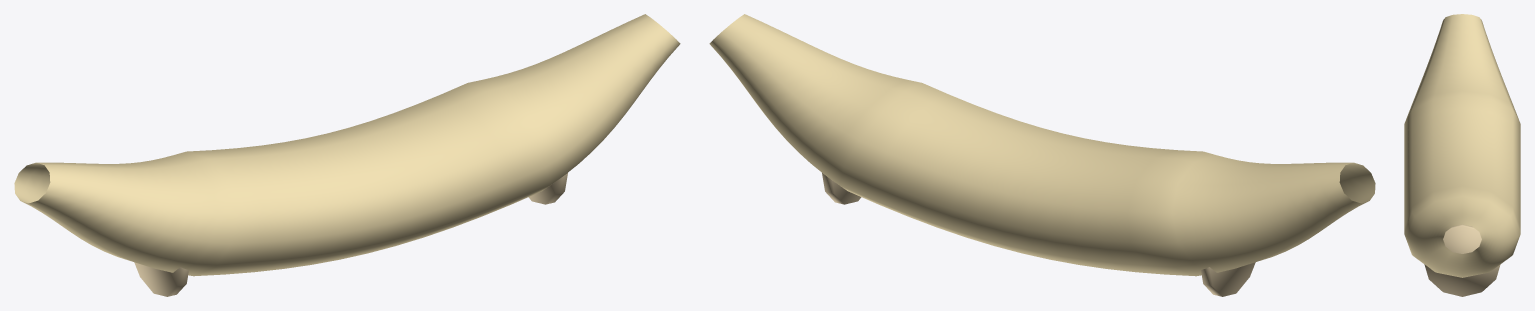
Rendered from vg_reed_boat.glb.
3 views of the same model, side by side, from view 1: azimuth 30°, elevation 25°; view 2: azimuth 150°, elevation 25°; view 3: azimuth 270°, elevation 25° (orthographic). The views are drawn at different scales.
Parts seen in each view (by area): view 1: boat, vg_reed_boat; view 2: boat, vg_reed_boat; view 3: boat, vg_reed_boat.
Part boxes in pixels (box(x1,y1,x2,y2)): boat: box(14, 14, 680, 276); vg_reed_boat: box(134, 173, 567, 296); boat: box(709, 14, 1375, 276); vg_reed_boat: box(822, 173, 1255, 296); boat: box(1404, 14, 1520, 277); vg_reed_boat: box(1424, 224, 1500, 296).
Size of the model in its own units: 4.15 by 0.94 by 0.9.
